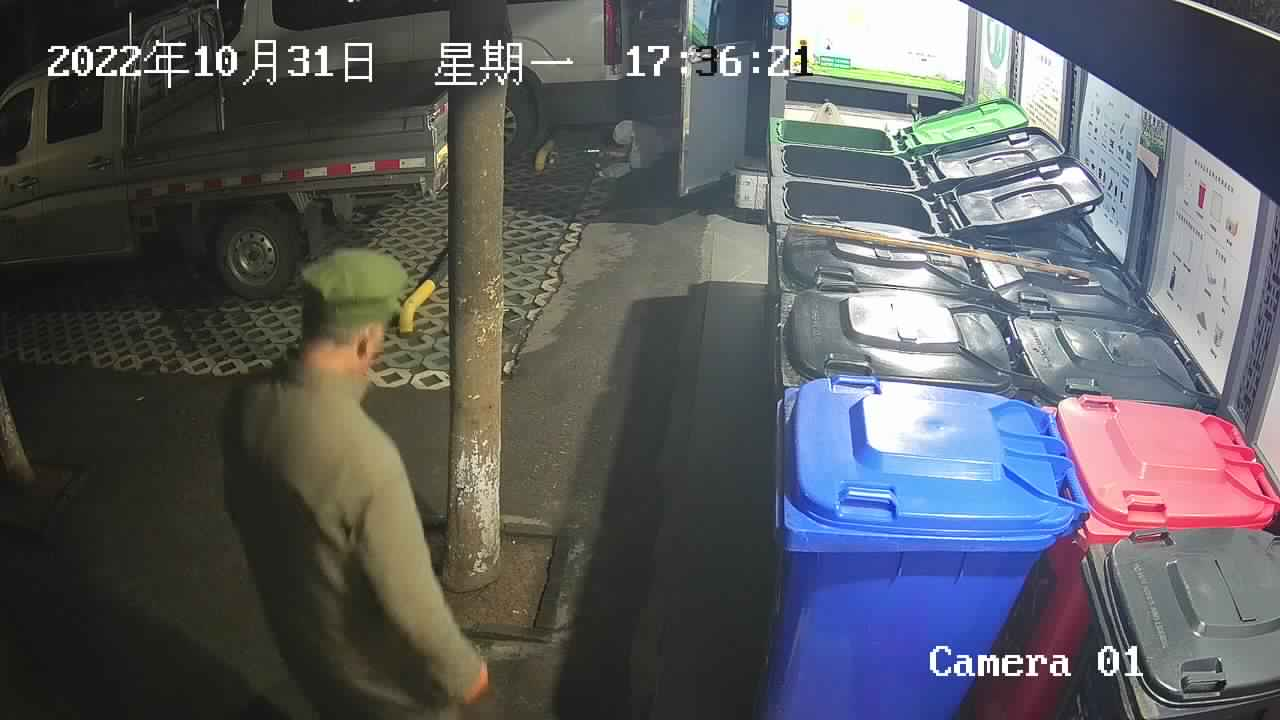person: (217, 246, 490, 720)
